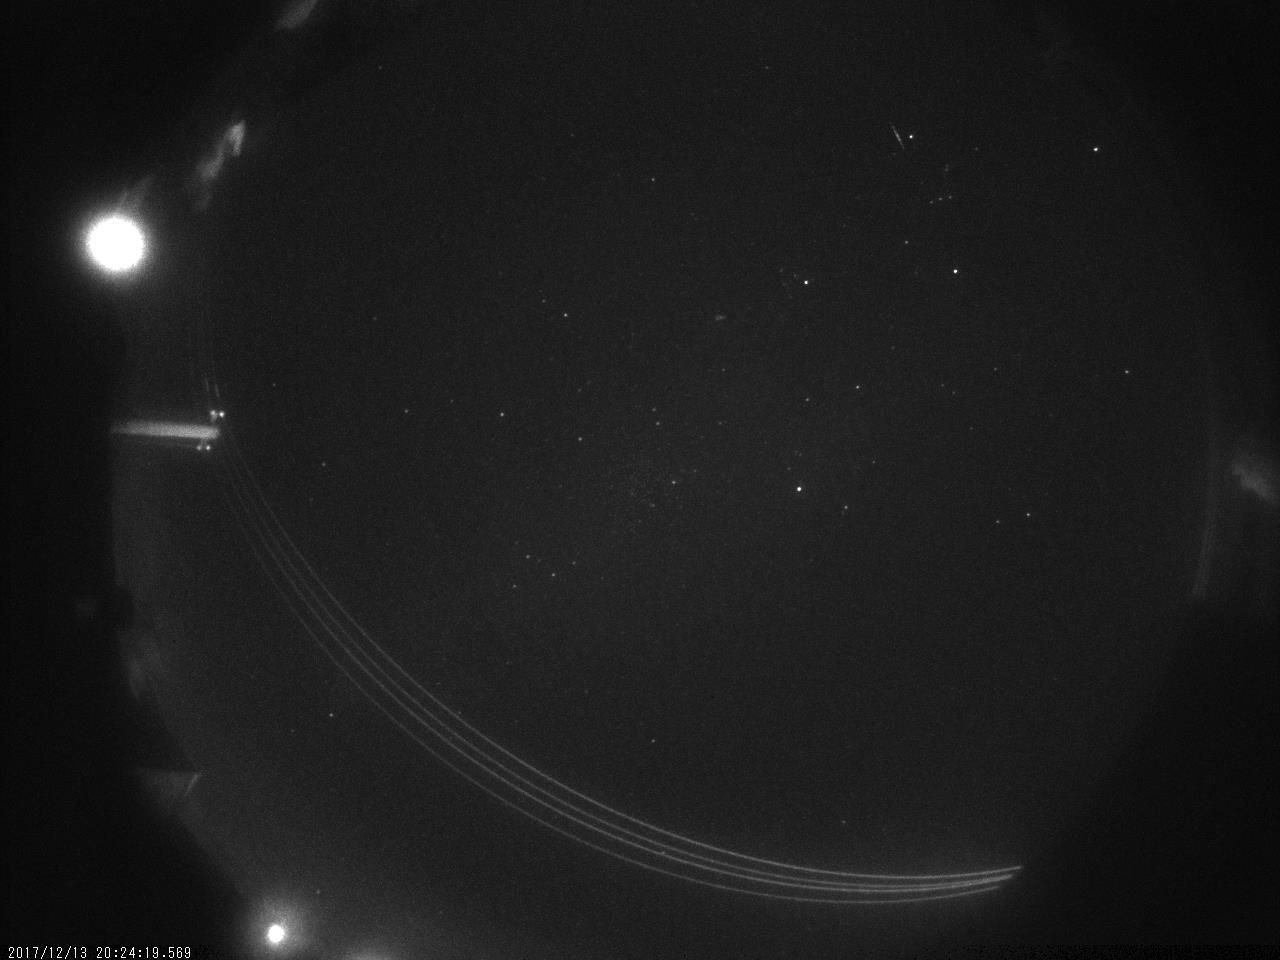meteor: (889, 111, 906, 152)
